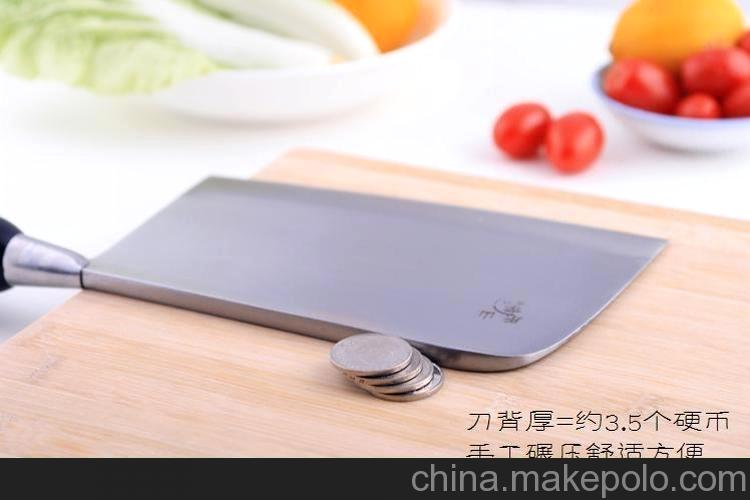knief: (19, 155, 678, 368)
